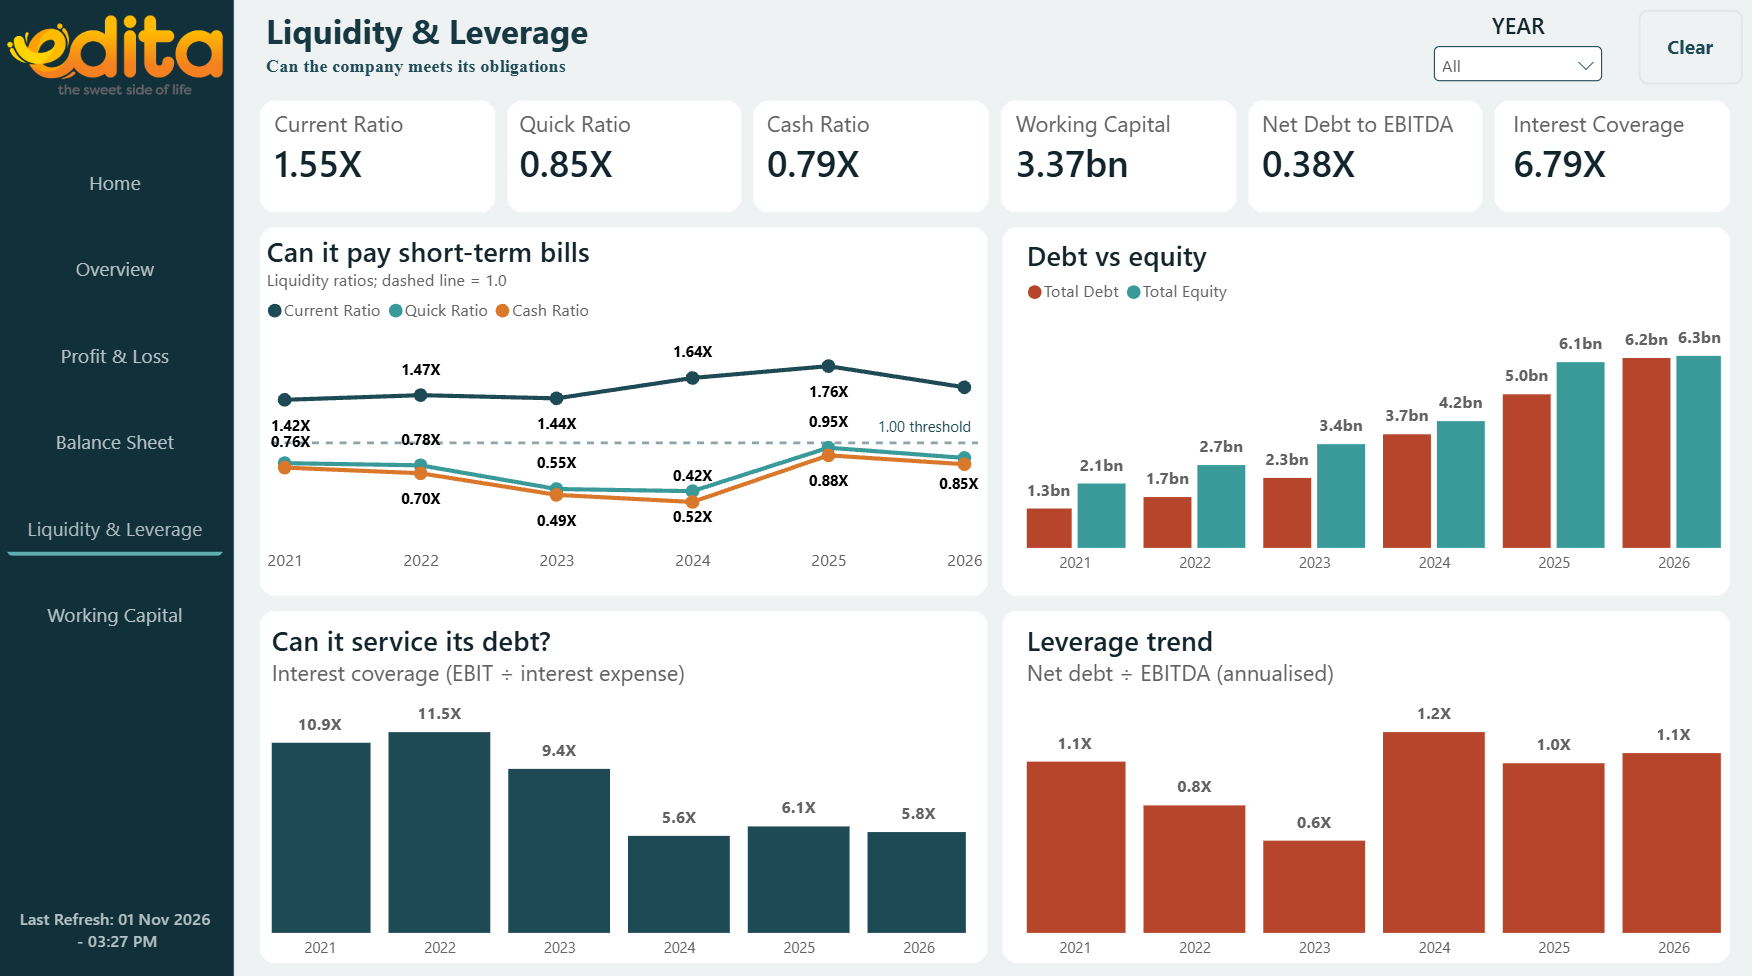

The dashboard page shown, as its layout file describes it:
{"tool":"powerbi","page":{"name":"Liquidity & Leverage","canvas":[1280,720],"ordinal":4},"visuals":[{"type":"textbox","box":[196.3,9.1,275.4,33.5],"z":0},{"type":"textbox","box":[196.4,42.3,275.8,23.2],"z":1000},{"type":"slicer","title":"YEAR","fields":{"Values":["Dim_Calendar.Year"]},"box":[1041.2,9.7,132.5,53.8],"z":2000},{"type":"actionButton","box":[1194.4,9.7,76,54.3],"z":4000},{"type":"card","fields":{"Values":["Measure_List.Last Refresh Display"]},"box":[0,640.6,173.3,79.3],"z":5000},{"type":"cardVisual","fields":{"Data":["Measure_List.Current Ratio"]},"box":[194.8,74.6,156.7,79.1],"z":7000},{"type":"cardVisual","fields":{"Data":["Measure_List.Quick Ratio"]},"box":[372.8,74.6,156.7,79.1],"z":8000},{"type":"cardVisual","fields":{"Data":["Measure_List.Cash Ratio"]},"box":[552.4,74.6,156.7,79.1],"z":9000},{"type":"cardVisual","fields":{"Data":["Measure_List.Working Capital"]},"box":[733.4,74.6,156.7,79.1],"z":10000},{"type":"cardVisual","fields":{"Data":["Measure_List.Net Debt to EBITDA"]},"box":[913,74.6,156.7,79.1],"z":11000},{"type":"cardVisual","fields":{"Data":["Measure_List.Interest Coverage"]},"box":[1095.6,74.6,156.7,79.1],"z":12000},{"type":"lineChart","title":"Can it pay short-term bills","fields":{"Category":["Dim_Calendar.Year"],"Y":["Measure_List.Current Ratio","Measure_List.Quick Ratio","Measure_List.Cash Ratio"]},"box":[181.1,165.9,552.4,273.9],"z":13000},{"type":"clusteredColumnChart","title":"Debt vs equity","fields":{"Category":["Dim_Calendar.Year"],"Y":["Measure_List.Total Debt","Measure_List.Total Equity"]},"box":[733.4,159.8,537.1,280],"z":14000},{"type":"clusteredColumnChart","title":"Can it service its debt?","fields":{"Category":["Dim_Calendar.Year"],"Y":["Measure_List.Interest Coverage"]},"box":[184.1,439.8,537.1,280],"z":15000},{"type":"clusteredColumnChart","title":"Leverage trend","fields":{"Category":["Dim_Calendar.Year"],"Y":["Measure_List.Net Debt to EBITDA Annualised"]},"box":[733.9,439.6,537.1,280],"z":16000},{"type":"pageNavigator","box":[0,108,173.3,374.6],"z":16001},{"type":"image","box":[8.6,11,157.1,63.8],"z":16002}]}

Visuals, with their boxes on the page's 1280x720 design canvas (x1, y1, x2, y2). These are canvas units, not pixel positions in the 1752x976 screenshot, which may show the page scaled, cropped or inside an application window:
textbox: select_region(196, 9, 472, 43)
textbox: select_region(196, 42, 472, 66)
"YEAR" slicer: select_region(1041, 10, 1174, 64)
actionButton: select_region(1194, 10, 1270, 64)
card - Measure_List.Last Refresh Display: select_region(0, 641, 173, 720)
cardVisual - Measure_List.Current Ratio: select_region(195, 75, 352, 154)
cardVisual - Measure_List.Quick Ratio: select_region(373, 75, 530, 154)
cardVisual - Measure_List.Cash Ratio: select_region(552, 75, 709, 154)
cardVisual - Measure_List.Working Capital: select_region(733, 75, 890, 154)
cardVisual - Measure_List.Net Debt to EBITDA: select_region(913, 75, 1070, 154)
cardVisual - Measure_List.Interest Coverage: select_region(1096, 75, 1252, 154)
"Can it pay short-term bills" lineChart: select_region(181, 166, 734, 440)
"Debt vs equity" clusteredColumnChart: select_region(733, 160, 1270, 440)
"Can it service its debt?" clusteredColumnChart: select_region(184, 440, 721, 720)
"Leverage trend" clusteredColumnChart: select_region(734, 440, 1271, 720)
pageNavigator: select_region(0, 108, 173, 483)
image: select_region(9, 11, 166, 75)
